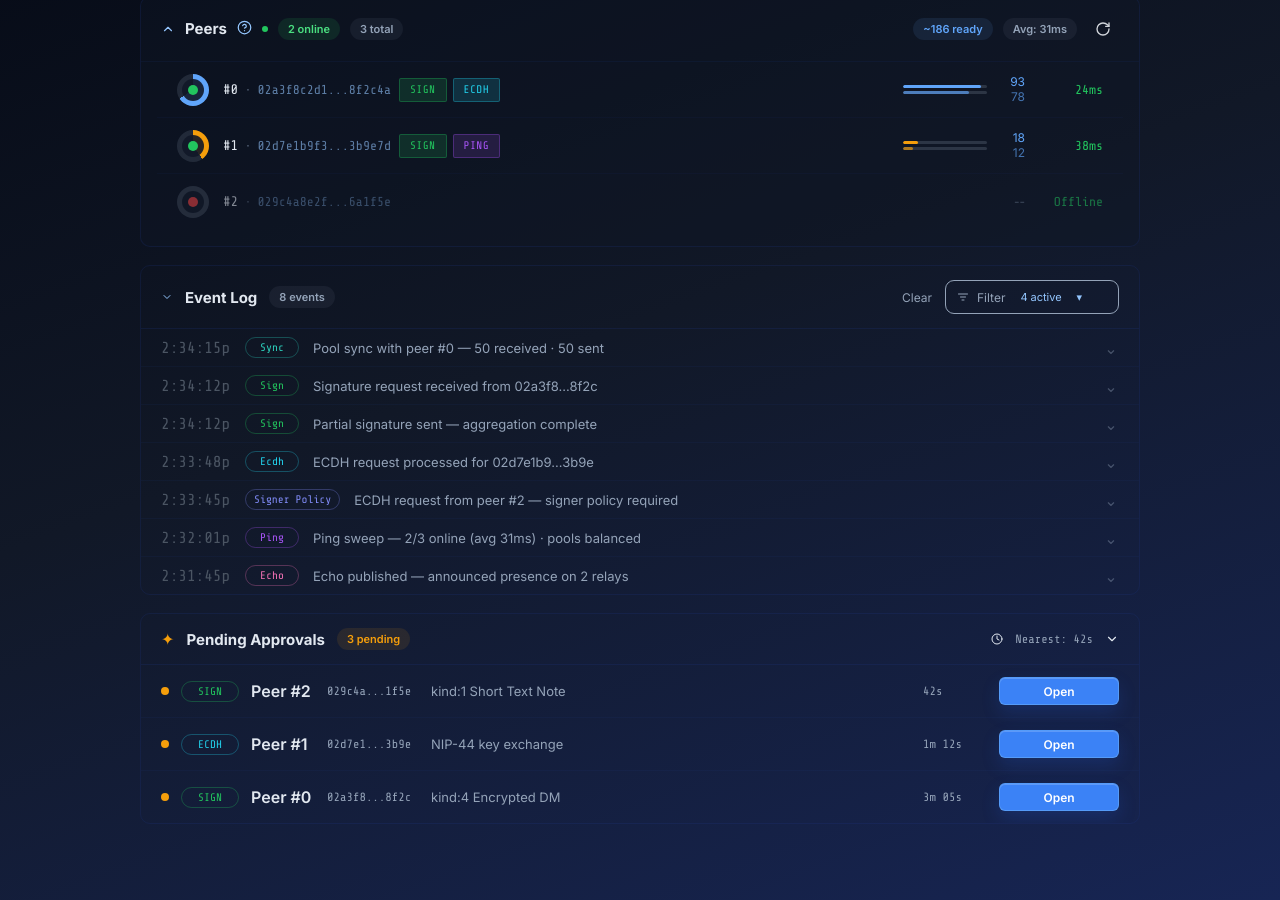
Test: Pending approval policy prompt wiring › opens the ECDH approval as the ECDH policy prompt variant (peer-level CTAs only per VAL-APPROVALS-013 deviation)
The image size is (1280, 900).
(page scrolled)
What coordinates should you click on to do the following:
click the button with aria-label "Open approval 2"
I would click on:
 (1059, 744)
Its box is top-left (999, 730), bottom-right (1119, 758).
(page scrolled)
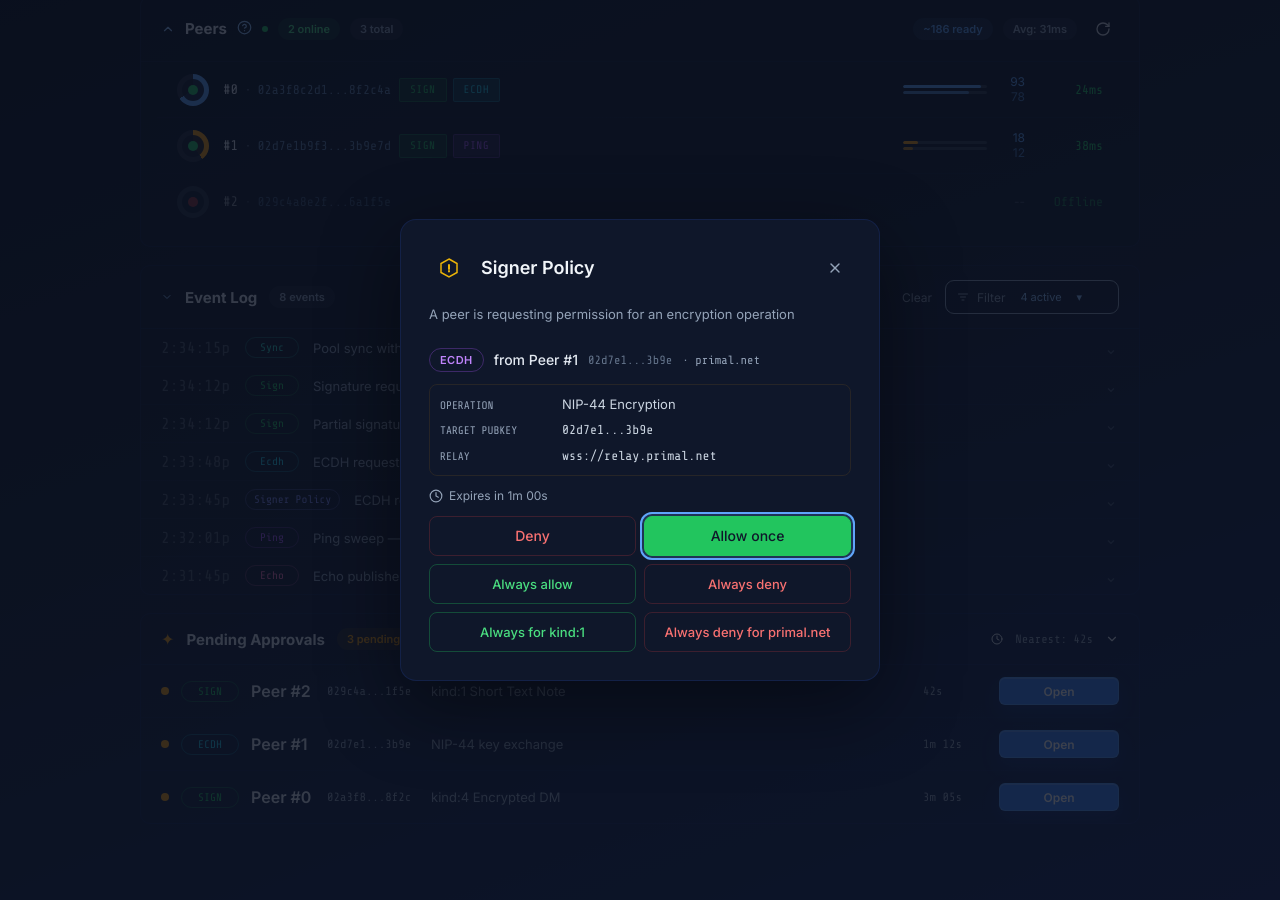
Now the heading "Signer Policy" is shown, box top-left (481, 257), bottom-right (595, 279)
Now the text "A peer is requesting permission for an encryption operation" is shown, box top-left (429, 305), bottom-right (851, 323)
Now the text "OPERATION" is shown, box top-left (440, 399), bottom-right (494, 412)
